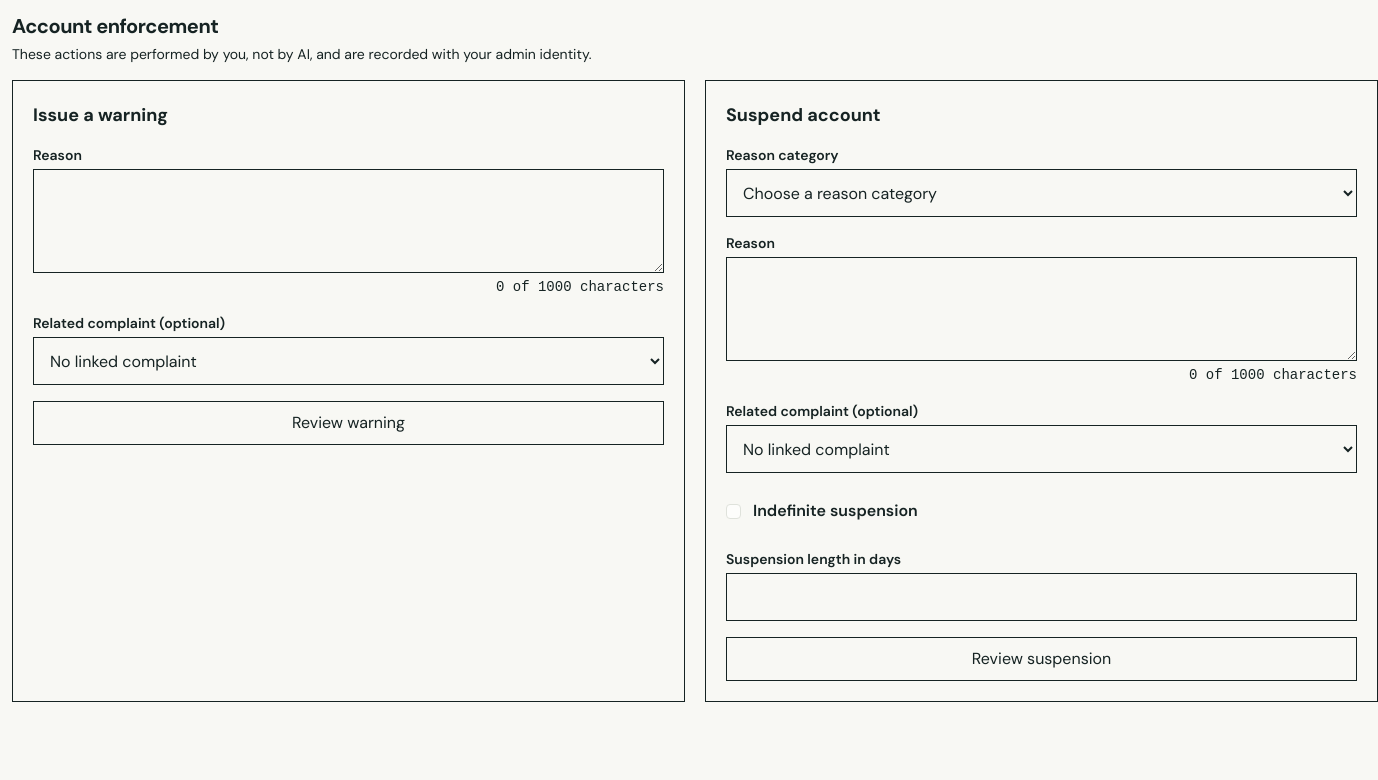
Test case: RiderEnforcementActions (OA-FR-21, OA-FR-23, OA-FR-28, CS455-54) › requires a reason category and an explicit suspension duration choice
The image size is (1378, 780).
expect the dropdown labelled "Reason category" shows "Choose a reason category": met, box [726,169,1357,217]
expect the number field labelled "Suspension length in days" is not empty: met, box [726,573,1357,621]
Click the button "Review suspension": [1042, 659] box [726,637,1357,681]
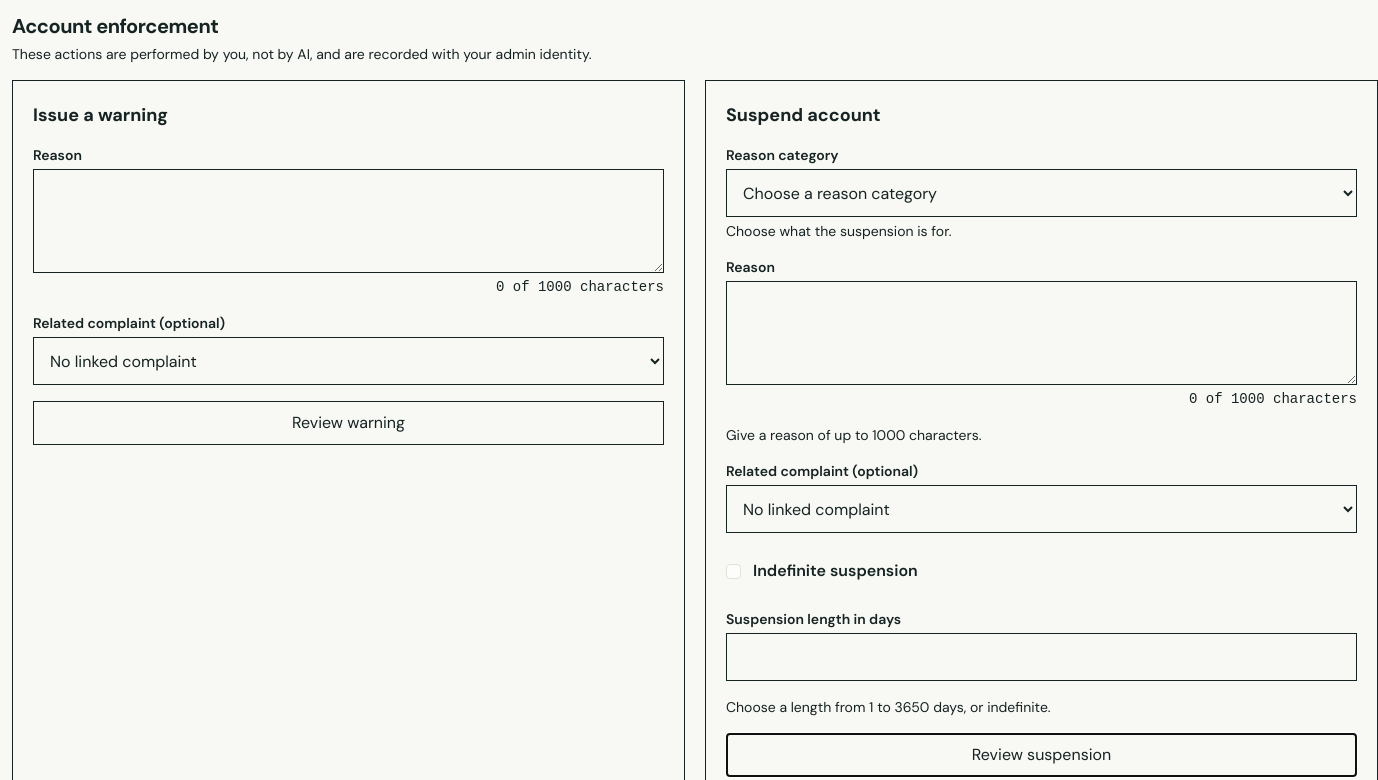
expect the text "Choose what the suspension is for." is shown: met, box [726,222,952,240]
expect the text "Choose a length from 1 to 3650 days, or indefinite." is shown: met, box [726,698,1051,716]
